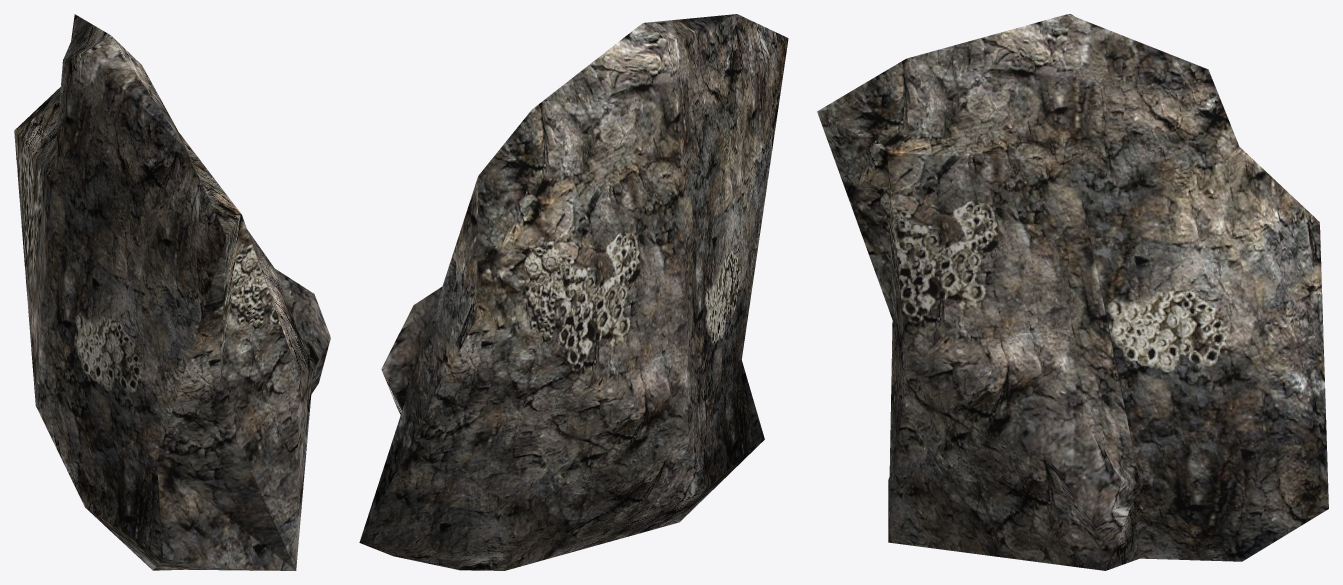
Rendered from pir_m_prp_dvj_rockBare_b.fbx.
3 renders of one model, left to right at view 1: azimuth 30°, elevation 25°; view 2: azimuth 150°, elevation 25°; view 3: azimuth 270°, elevation 25°, orthographic. The views are drawn at different scales.
Visible parts, largest first — view 1: lod_high; view 2: lod_high; view 3: lod_high.
Part boxes in pixels (left/top/right/bottom): lod_high: left=14, top=14, right=330, bottom=570; lod_high: left=359, top=14, right=788, bottom=570; lod_high: left=817, top=14, right=1328, bottom=570.
Bounding box in the file's own units: 2913 × 4933 × 4582.
1 material, 1 textured.
